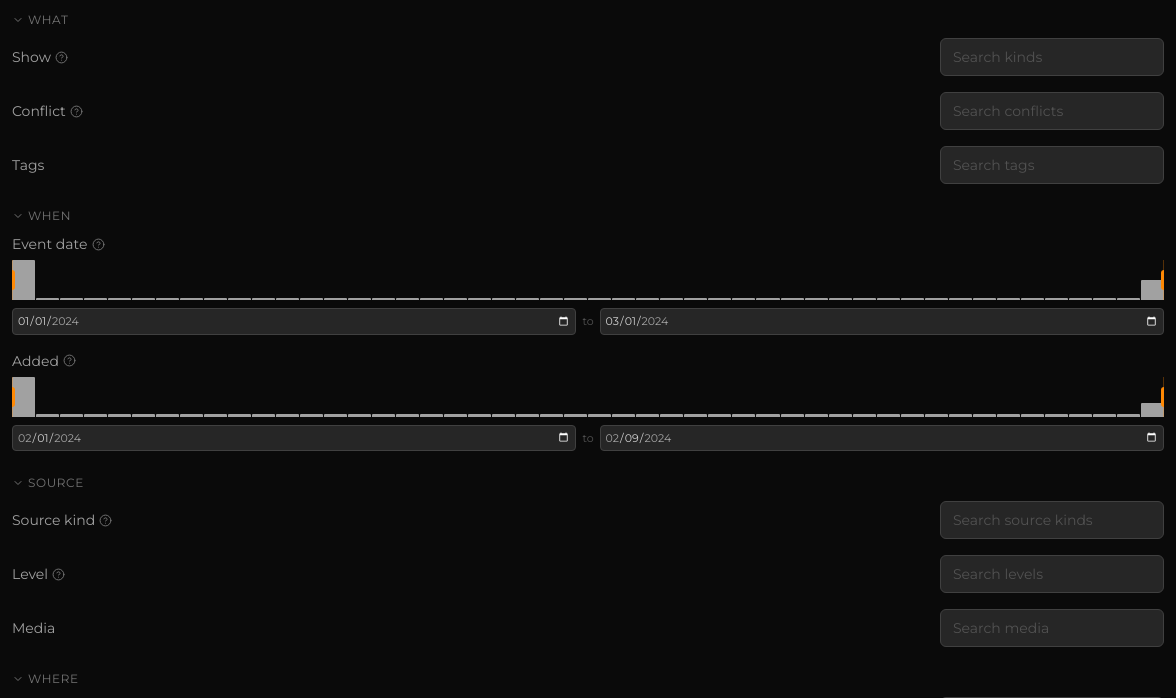
Test: <FilterPanel> › lists a short list whole on focus, and closes after a pick
Focus the dropdown labelled "level" at (1052, 574), box [940,555,1164,593]
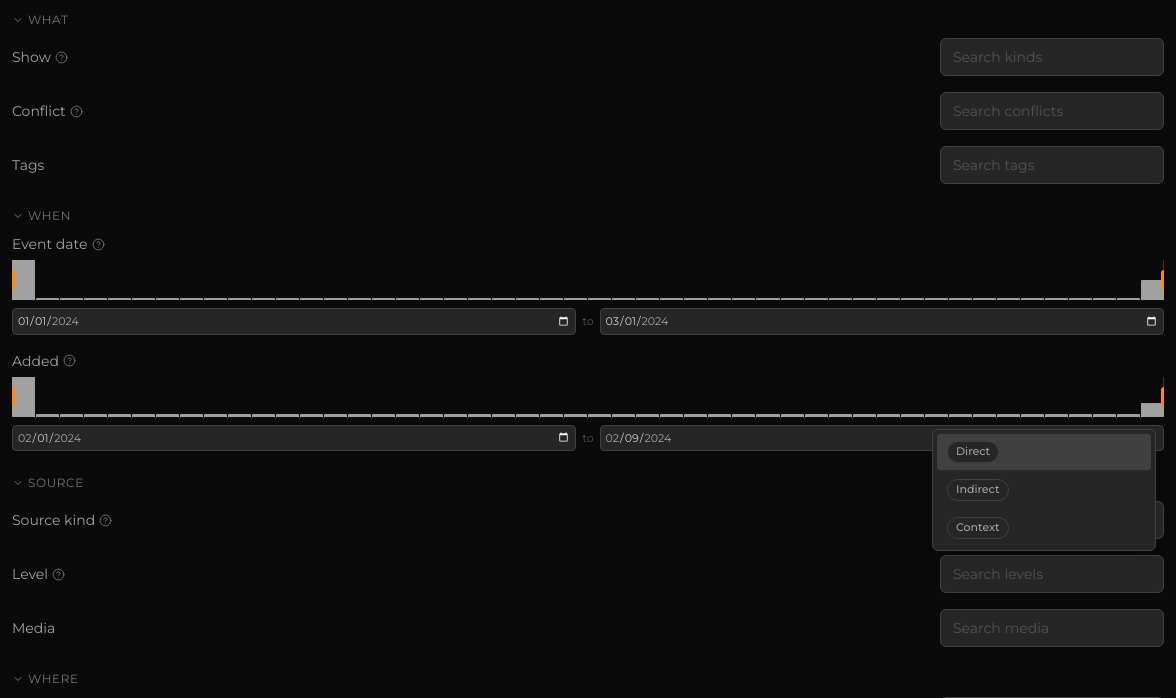
Now the options read "Direct", "Indirect", "Context", in this order
Click the option "Direct" at (1044, 452), box [937,434,1151,470]
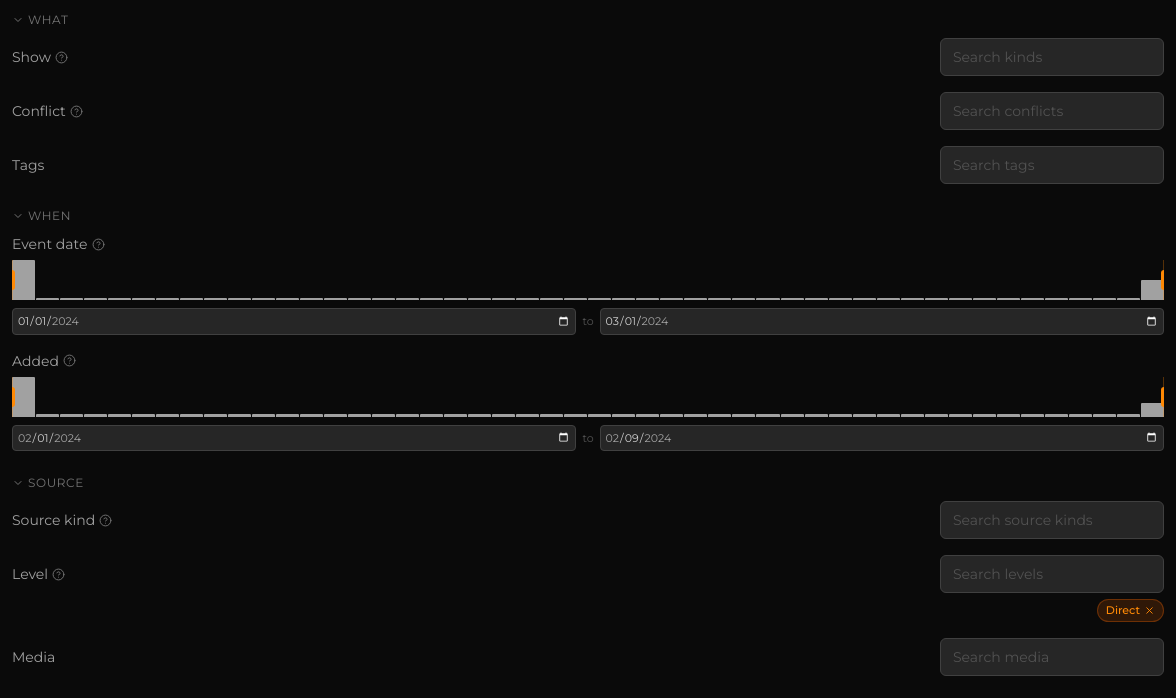
Now the button with aria-label "Remove Direct" is shown, box [1097,599,1164,622]
Now the list is gone
